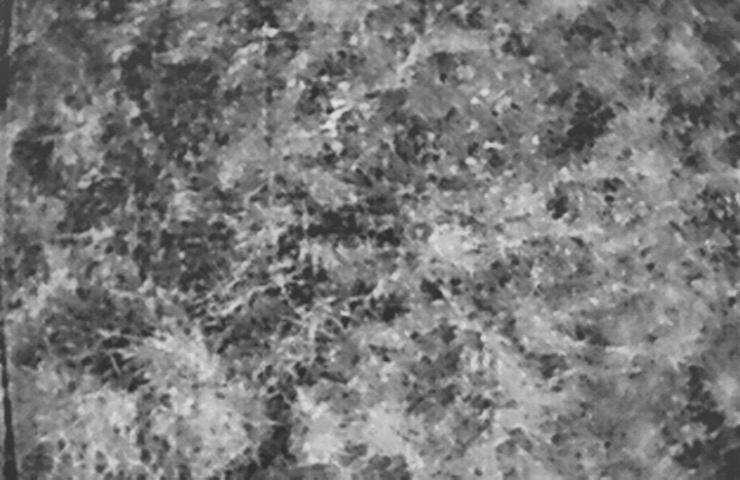landmines: (402, 216, 440, 250)
